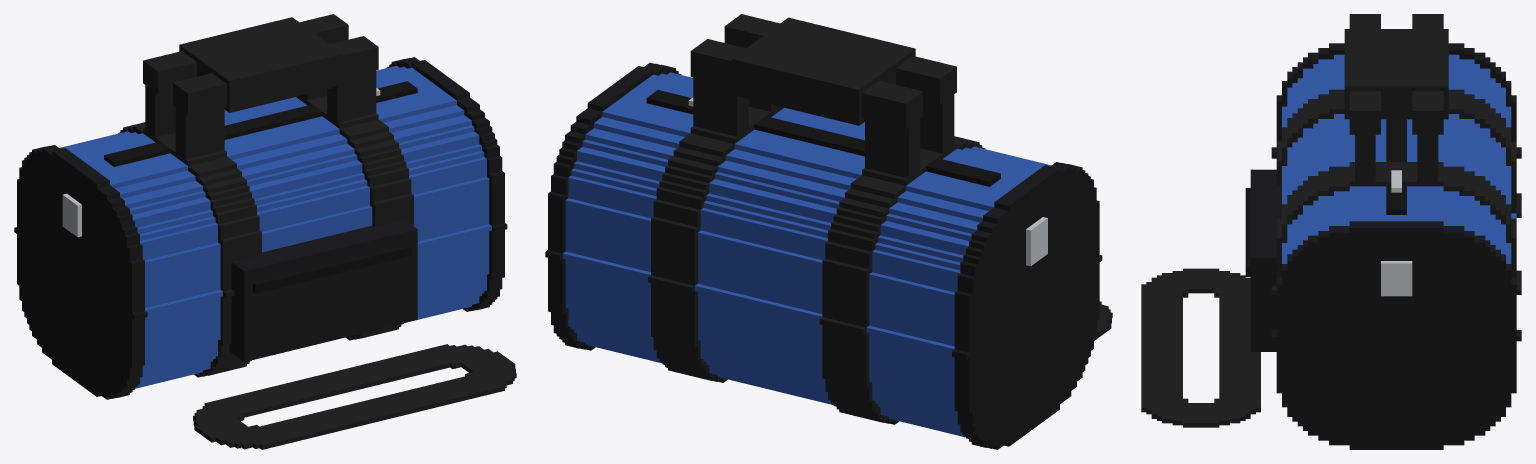
File: duffelbag_gym_xxs.glb
3 renders of one model, left to right at view 1: azimuth 30°, elevation 25°; view 2: azimuth 150°, elevation 25°; view 3: azimuth 270°, elevation 25°, orthographic. The views are drawn at different scales.
Parts seen in each view (by area): view 1: duffelbag_gym_xxs:compound; view 2: duffelbag_gym_xxs:compound; view 3: duffelbag_gym_xxs:compound.
Part boxes in pixels (x1=…): duffelbag_gym_xxs:compound: x1=14, y1=14, x2=516, y2=449; duffelbag_gym_xxs:compound: x1=545, y1=14, x2=1112, y2=449; duffelbag_gym_xxs:compound: x1=1141, y1=14, x2=1521, y2=449.
Bounding box in the file's own units: 0.352 × 0.252 × 0.292.
